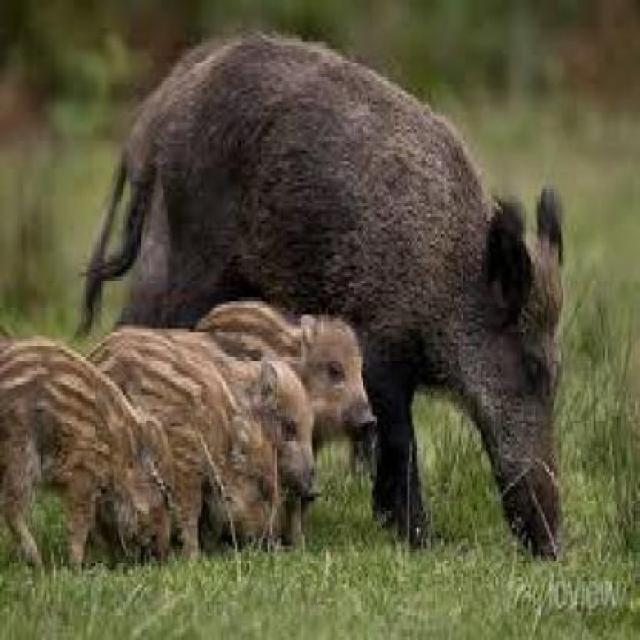wildboar: (74, 25, 568, 567), (87, 310, 284, 562), (2, 328, 175, 580), (191, 290, 371, 508), (177, 321, 317, 559)
